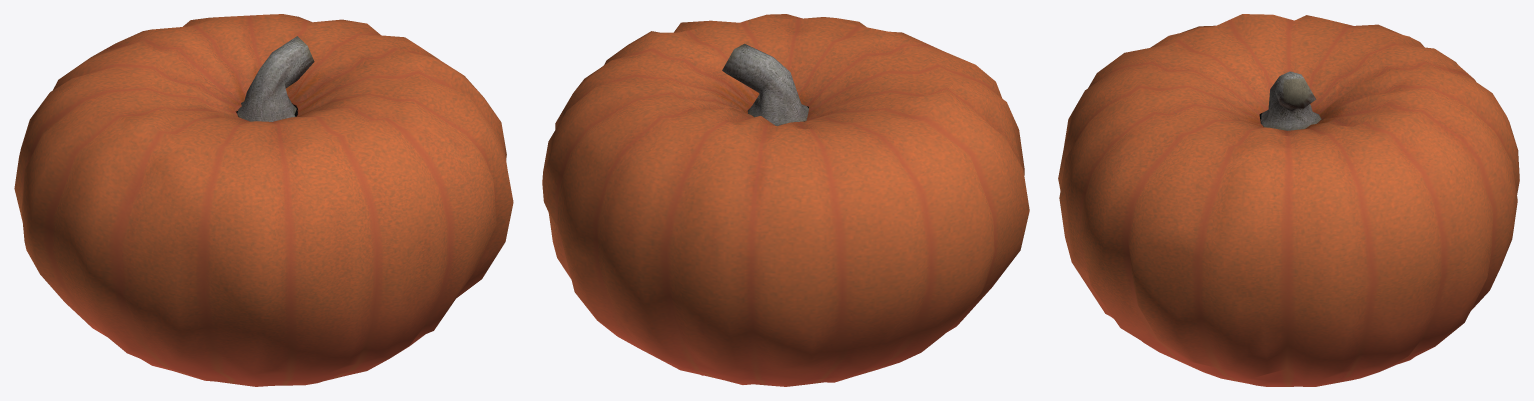
File: pumpkin_94244dda.glb
3 renders of one model, left to right at view 1: azimuth 30°, elevation 25°; view 2: azimuth 150°, elevation 25°; view 3: azimuth 270°, elevation 25°, orthographic. The views are drawn at different scales.
Parts seen in each view (by area): view 1: Sphere.002, Sphere.003; view 2: Sphere.002, Sphere.003; view 3: Sphere.002, Sphere.003.
Part boxes in pixels (bbox=[...]): Sphere.002: bbox=[14, 14, 513, 386]; Sphere.003: bbox=[237, 36, 314, 121]; Sphere.002: bbox=[542, 14, 1029, 386]; Sphere.003: bbox=[722, 43, 808, 126]; Sphere.002: bbox=[1058, 14, 1519, 386]; Sphere.003: bbox=[1259, 71, 1321, 130].
Bounding box in the file's own units: 778 × 514 × 743.
1 material, 1 textured.
